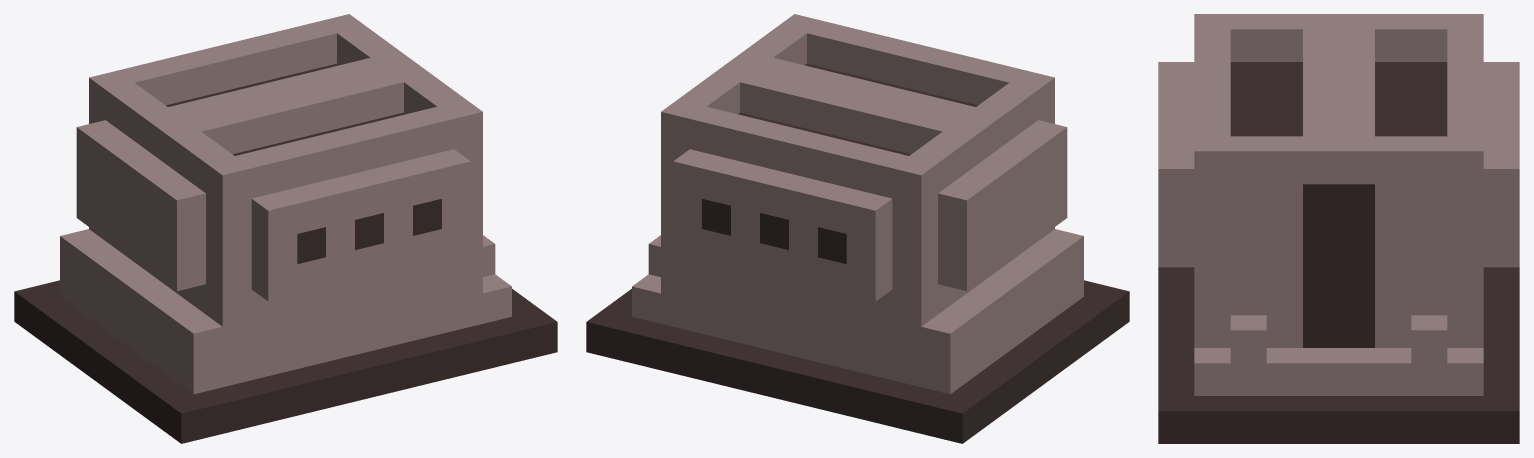
The model's file is Tostadora.fbx.
The picture shows the model from 3 angles, left to right: view 1: azimuth 30°, elevation 25°; view 2: azimuth 150°, elevation 25°; view 3: azimuth 270°, elevation 25°; orthographic projection. The views are drawn at different scales.
Visible parts, largest first — view 1: Tostadora; view 2: Tostadora; view 3: Tostadora.
Boxes of the visible parts, left/top/right/bottom form: Tostadora: left=14, top=14, right=557, bottom=443; Tostadora: left=586, top=14, right=1129, bottom=443; Tostadora: left=1158, top=14, right=1519, bottom=443.
Bounding box in the file's own units: 130 × 80 × 100.
